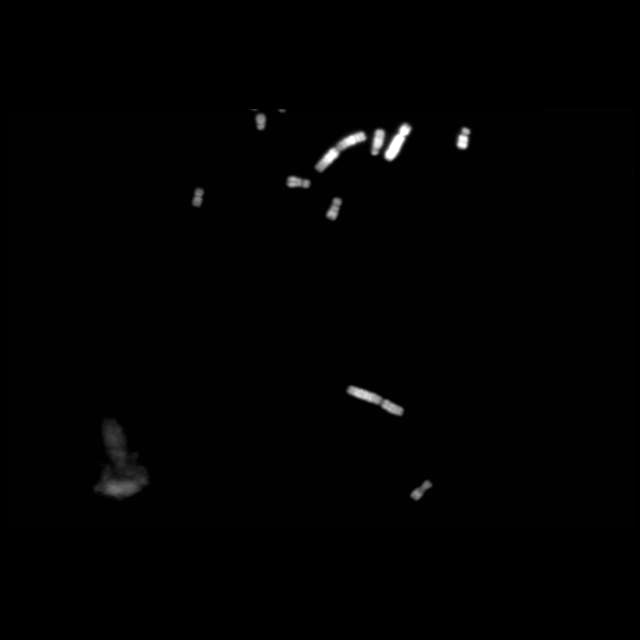chromosome: (316, 132, 366, 172), (348, 386, 402, 416), (384, 123, 412, 161), (411, 480, 432, 500), (372, 128, 384, 156), (286, 176, 310, 190), (327, 197, 341, 219), (458, 128, 470, 148), (192, 188, 204, 208), (256, 114, 266, 132)
